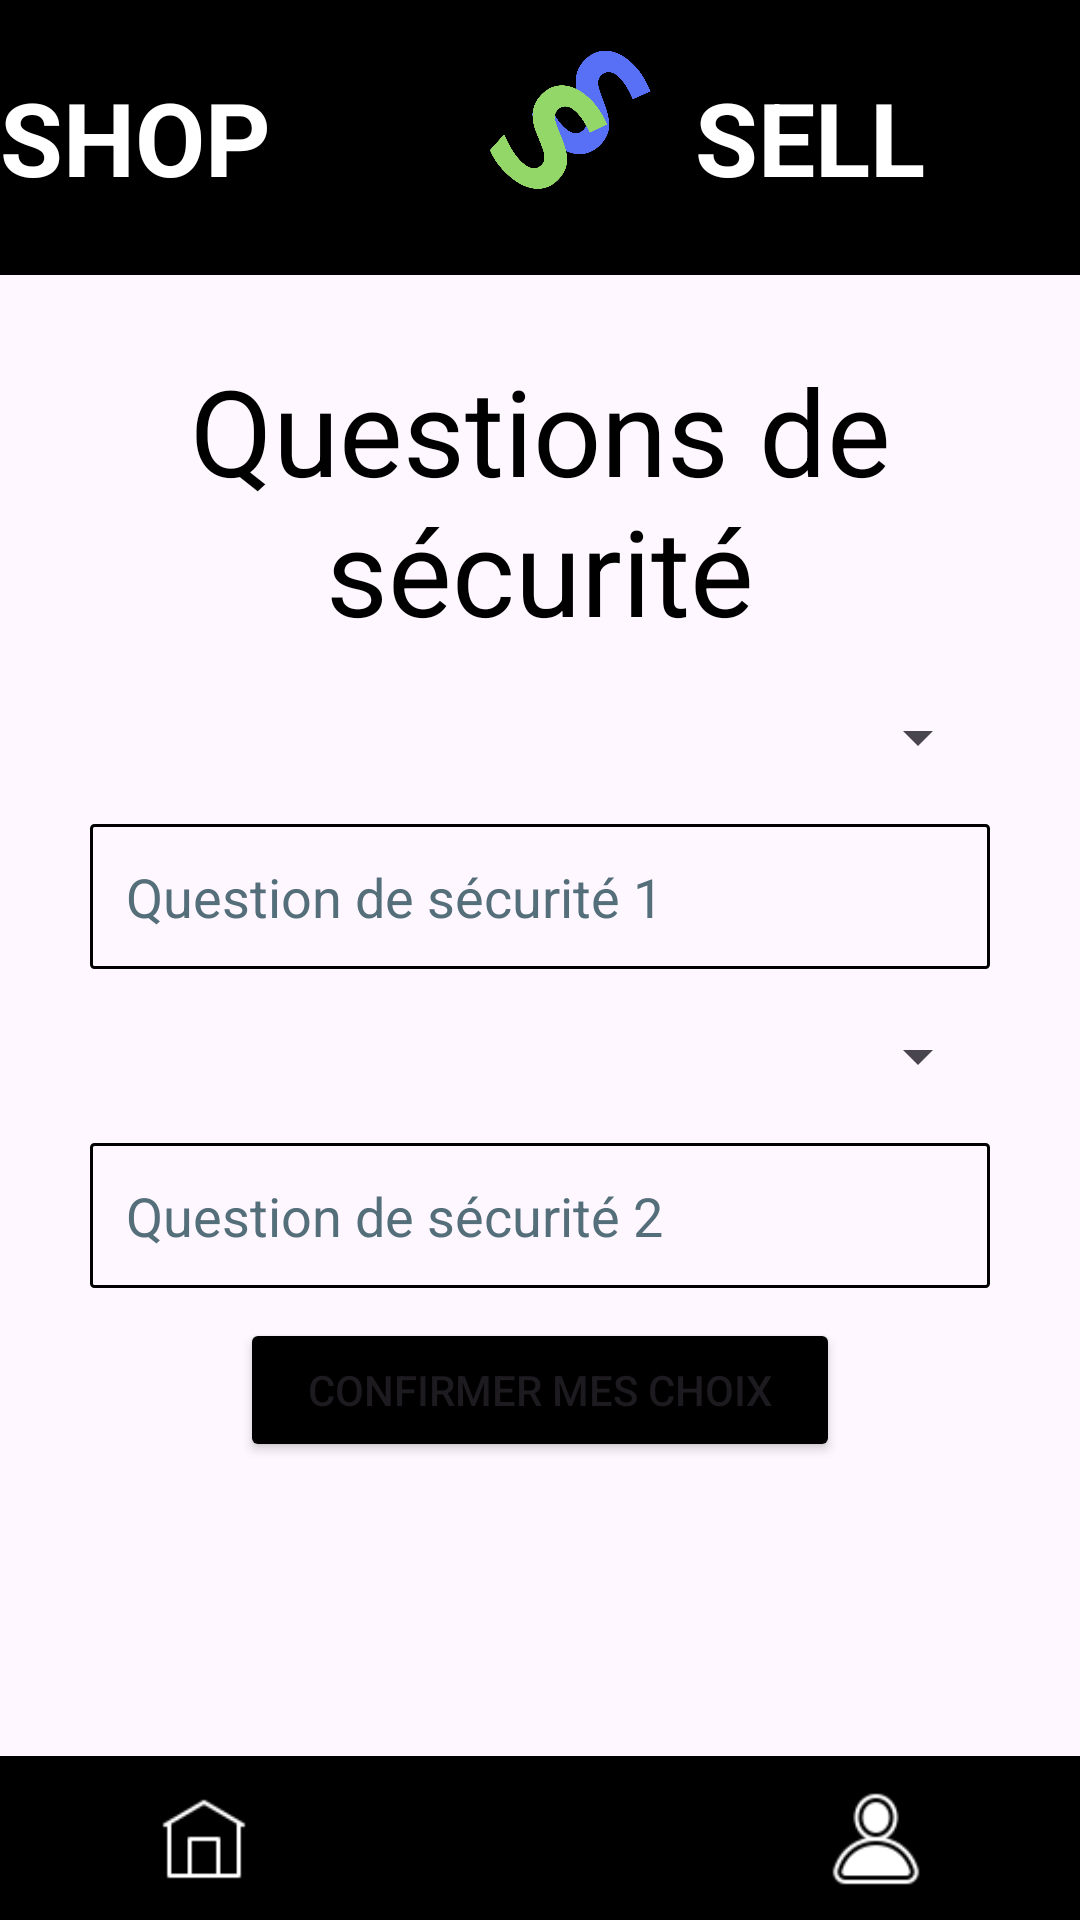

Screen size 1080x1920. Icon name, then its center in pixels as (x=x, y=y):
home: (x=204, y=1839)
user clicked: (x=876, y=1839)
